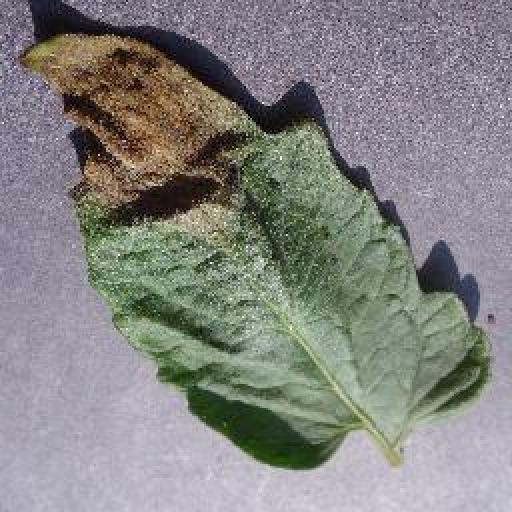disease_tomato: (16, 27, 500, 473)
